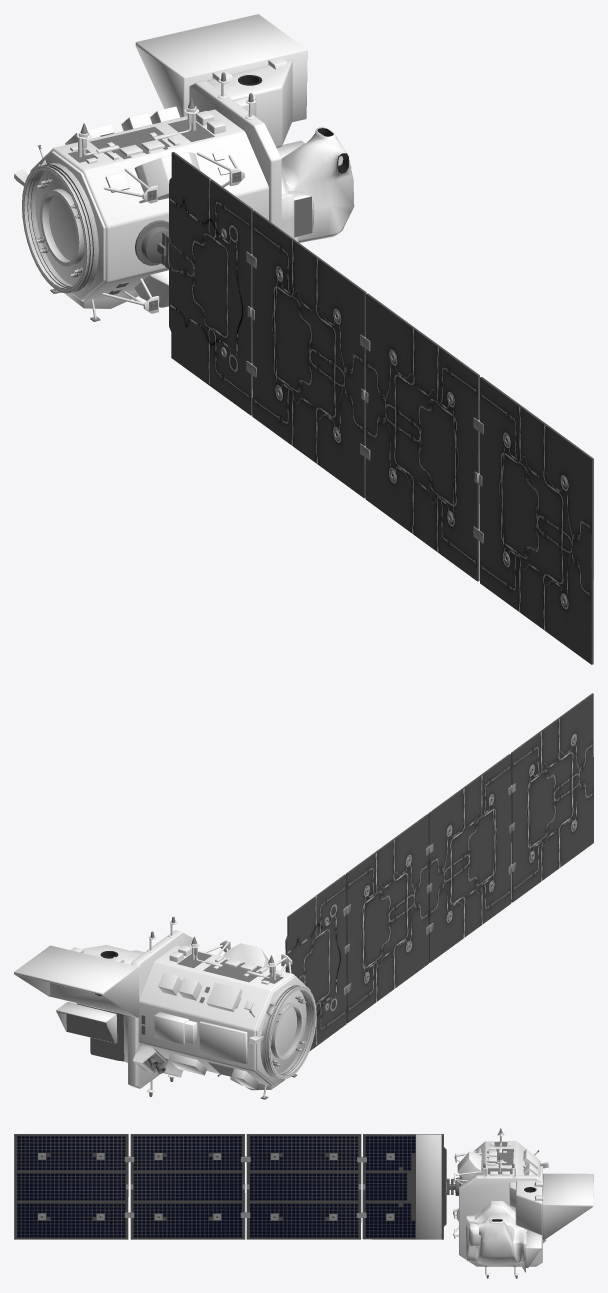
File: Landsat9.gltf
3 renders of one model, top to bottom at view 1: azimuth 30°, elevation 25°; view 2: azimuth 150°, elevation 25°; view 3: azimuth 270°, elevation 25°, orthographic. The views are drawn at different scales.
Visible parts, largest first — view 1: solarPanels, OLI, BUS, BUS_instruments, baked_instruments, solarPanelHinges, BUS_plates, solarPanels_base, solarPanels_gimbal; view 2: solarPanels, BUS, BUS_instruments, OLI, baked_instruments, OLI_plates, BUS_plates, solarPanelHinges; view 3: solarPanels, OLI, BUS, solarPanels_foil, BUS_instruments, solarPanelHinges, BUS_plates, solarPanels_base.
Boxes of the visible parts, x1,y1,x2,y2 form: solarPanels: [169, 152, 593, 664]; OLI: [135, 14, 354, 242]; BUS: [30, 80, 281, 302]; BUS_instruments: [38, 72, 255, 321]; baked_instruments: [14, 159, 98, 293]; solarPanelHinges: [220, 228, 567, 605]; BUS_plates: [68, 119, 214, 294]; solarPanels_base: [100, 152, 244, 313]; solarPanels_gimbal: [135, 220, 170, 269]; solarPanels: [285, 693, 593, 1051]; BUS: [128, 930, 310, 1088]; BUS_instruments: [147, 916, 297, 1099]; OLI: [14, 945, 144, 1062]; baked_instruments: [133, 984, 316, 1079]; OLI_plates: [56, 1003, 124, 1061]; BUS_plates: [141, 952, 283, 1076]; solarPanelHinges: [324, 735, 576, 1010]; solarPanels: [14, 1134, 446, 1239]; OLI: [465, 1173, 593, 1272]; BUS: [459, 1141, 542, 1266]; solarPanels_foil: [416, 1134, 441, 1239]; BUS_instruments: [456, 1128, 542, 1278]; solarPanelHinges: [38, 1153, 394, 1220]; BUS_plates: [459, 1142, 525, 1185]; solarPanels_base: [453, 1151, 481, 1238].
Size of the model in its own units: 5.25 by 3.84 by 17.47.
11 materials, 2 textured.
